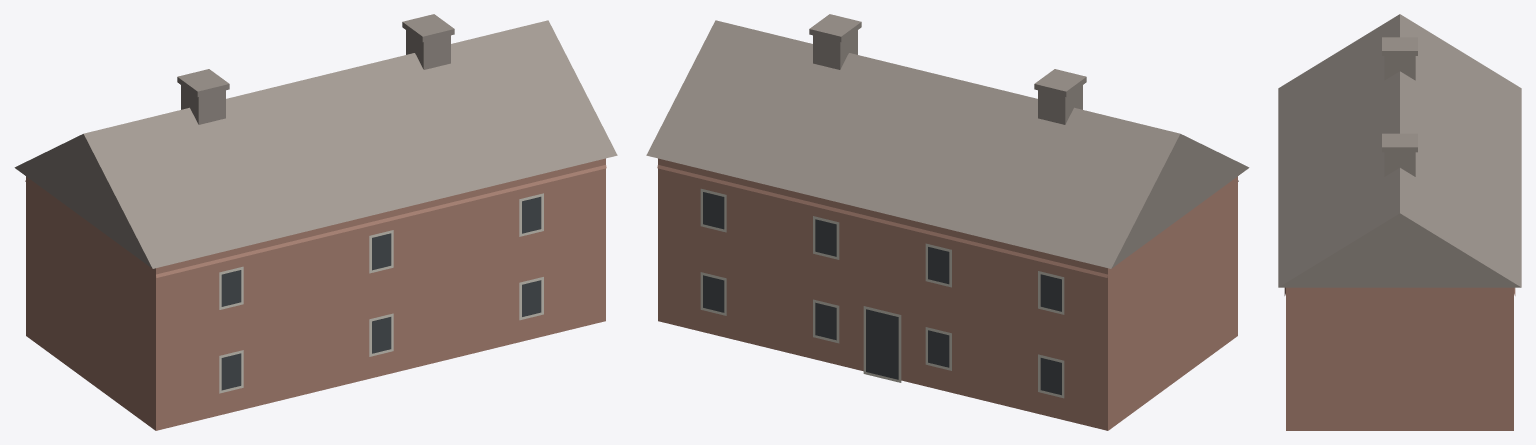
File: fort_dearborn_commandants_quarters__brick_1816.glb
3 renders of one model, left to right at view 1: azimuth 30°, elevation 25°; view 2: azimuth 150°, elevation 25°; view 3: azimuth 270°, elevation 25°, orthographic. The views are drawn at different scales.
Visible parts, largest first — view 1: fort_dearborn_commandants_quarters__brick_1816; view 2: fort_dearborn_commandants_quarters__brick_1816; view 3: fort_dearborn_commandants_quarters__brick_1816.
Part boxes in pixels (x1=…): fort_dearborn_commandants_quarters__brick_1816: x1=14, y1=14, x2=617, y2=430; fort_dearborn_commandants_quarters__brick_1816: x1=646, y1=14, x2=1249, y2=430; fort_dearborn_commandants_quarters__brick_1816: x1=1278, y1=14, x2=1521, y2=430.
Size of the model in its own units: 15.74 by 8.98 by 8.12.
